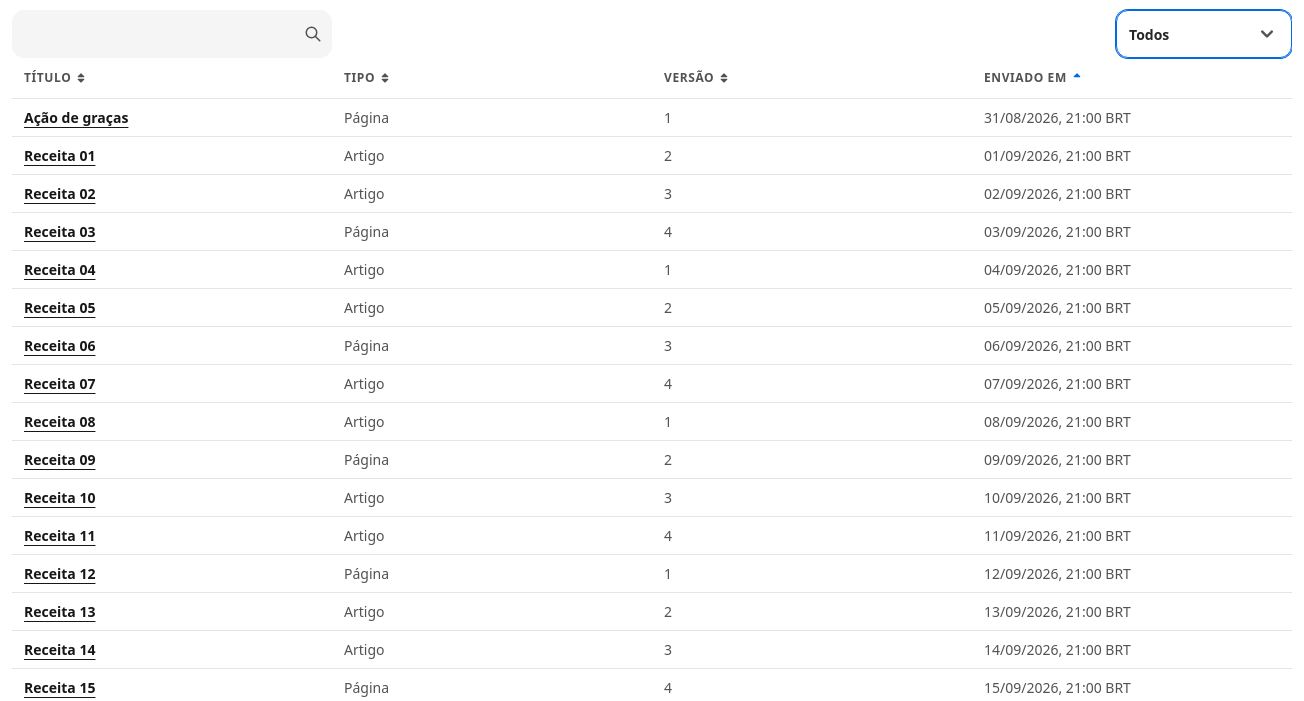
Test: busca, filtro, ordem e paginação (#365) › o filtro por tipo combina com a busca; "Limpar filtros" zera os dois
The width and height of the screenshot is (1304, 701).
Press Arrowdown
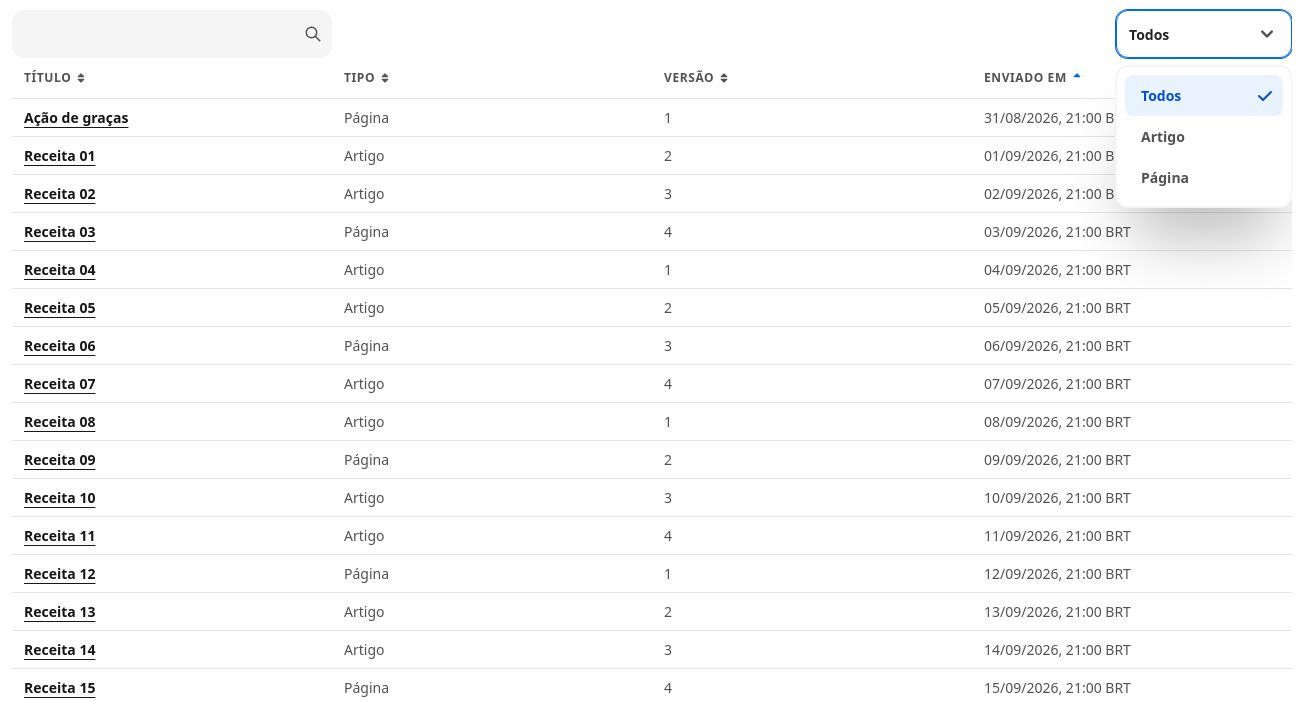
Click the option "Página" at (1165, 178), box [1141,168,1189,187]
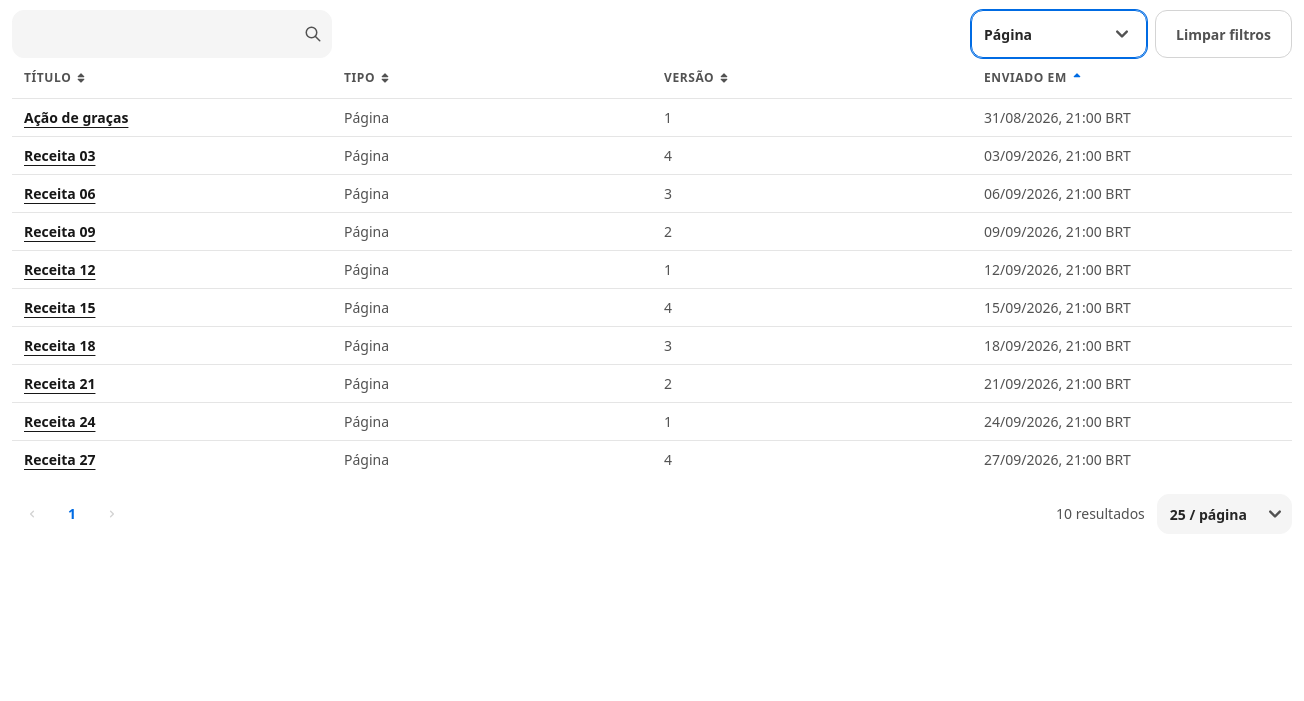
expect the message reads "10 resultados": met, box [1056,504,1145,523]
Type "2" into the search field labelled "Buscar por título" at (172, 34), box [12,10,332,58]
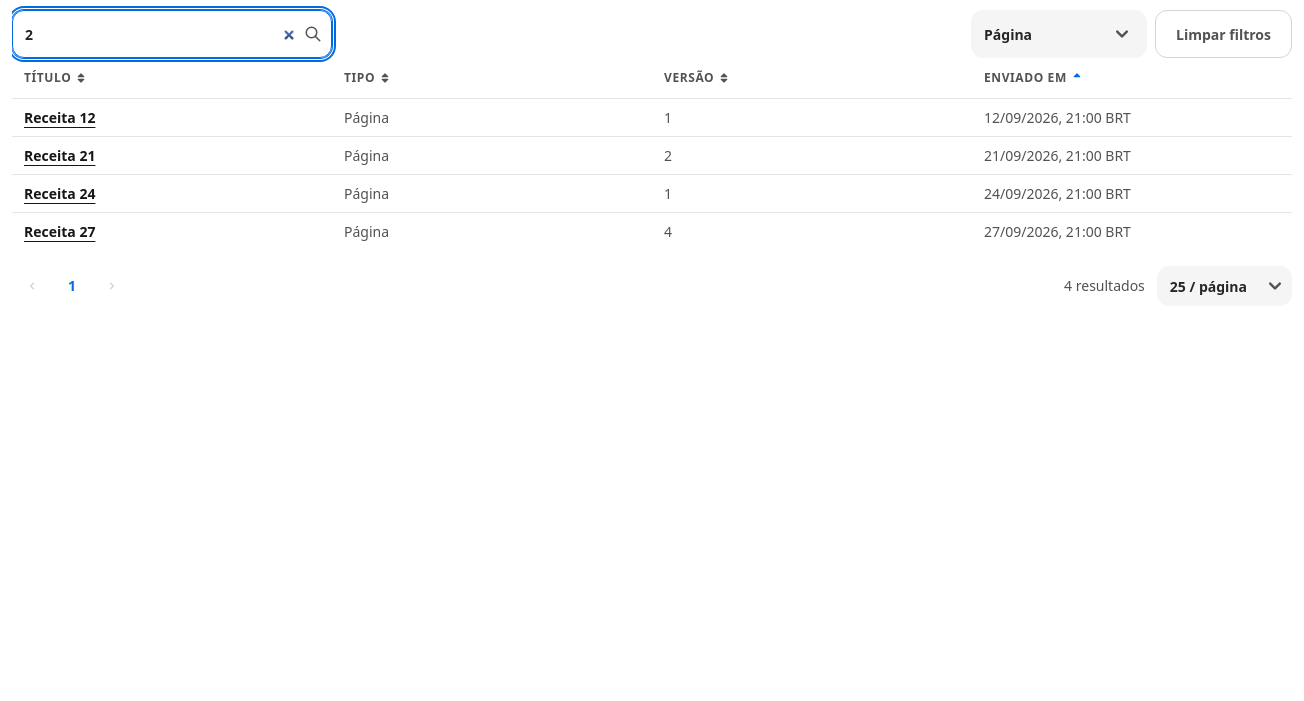
Click the button "Limpar filtros" at (1224, 34), box [1155,10,1292,58]
(page scrolled)
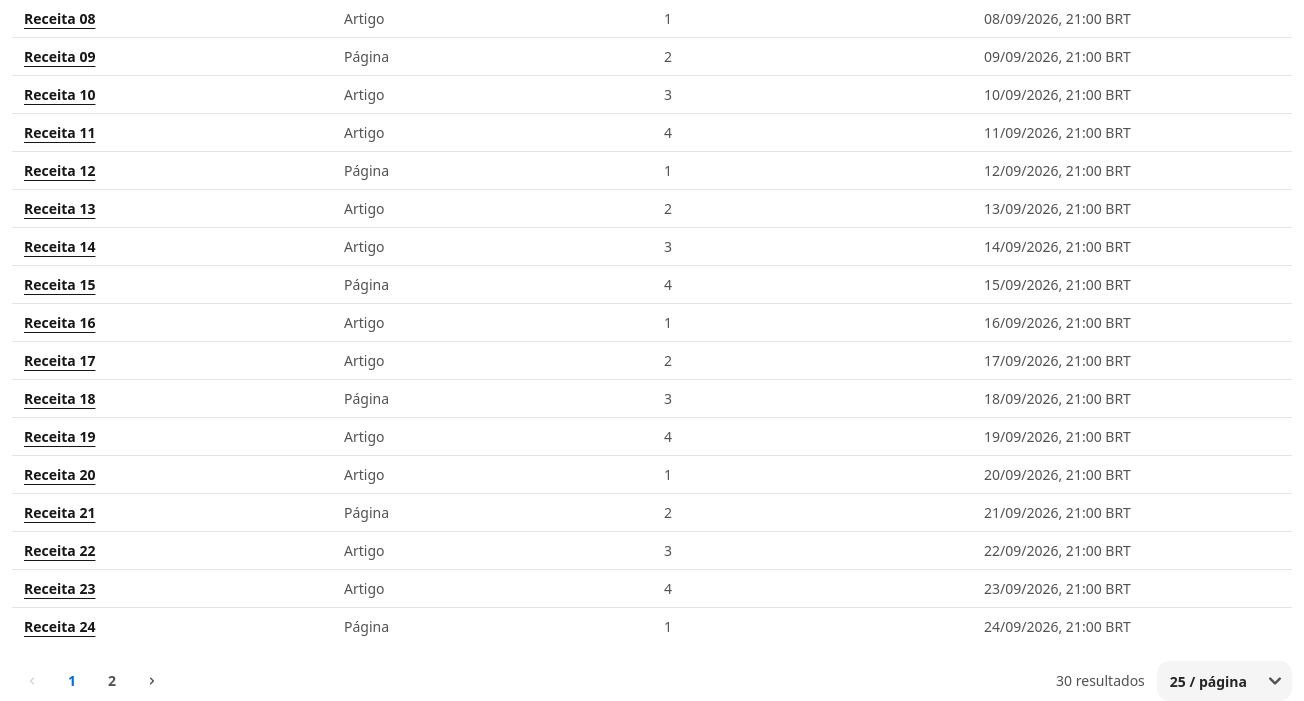
expect the message reads "30 resultados": met, box [1056,671,1145,690]
